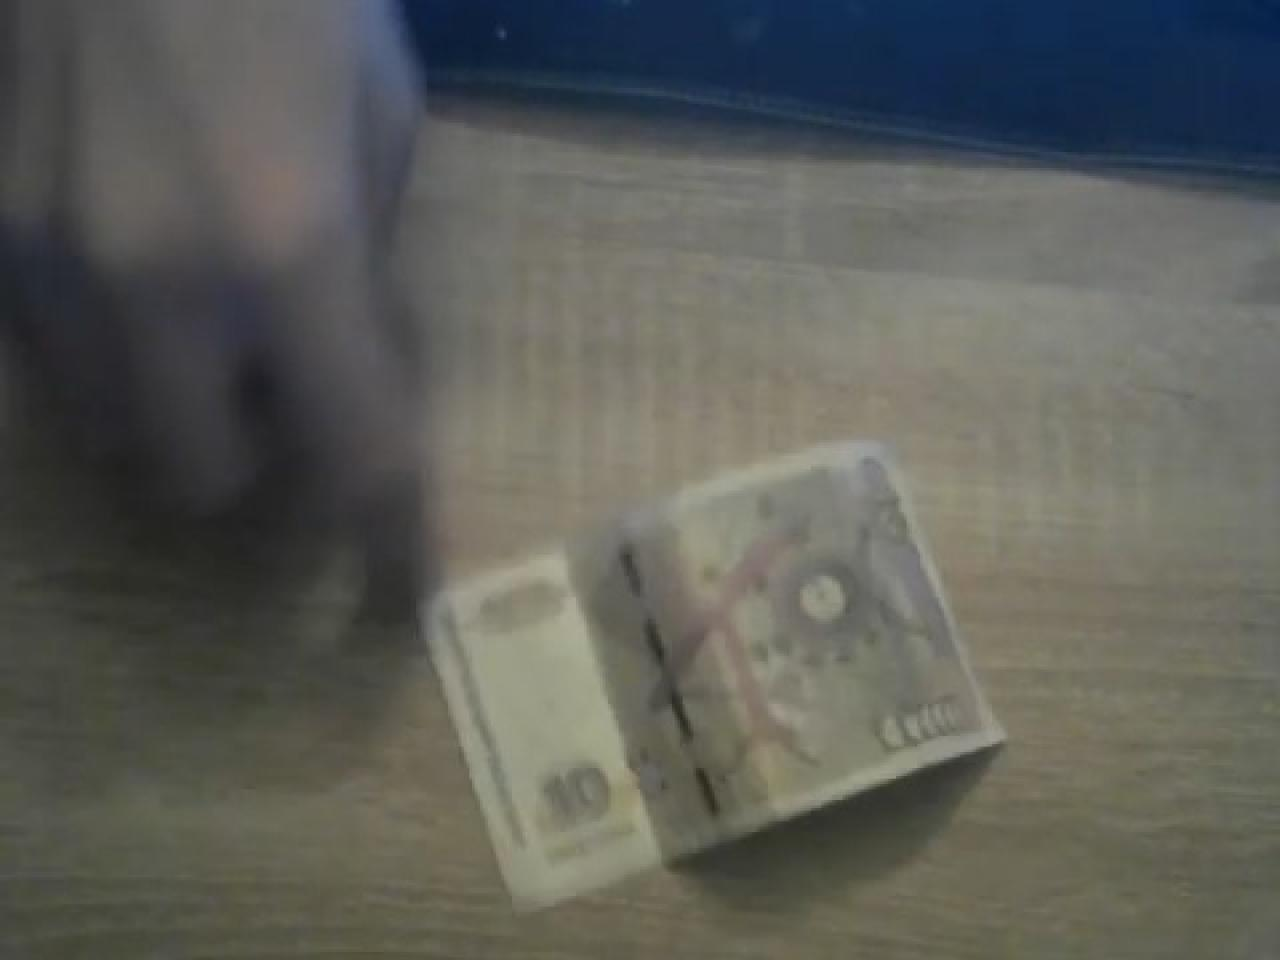10leva: (424, 443, 1008, 918)
